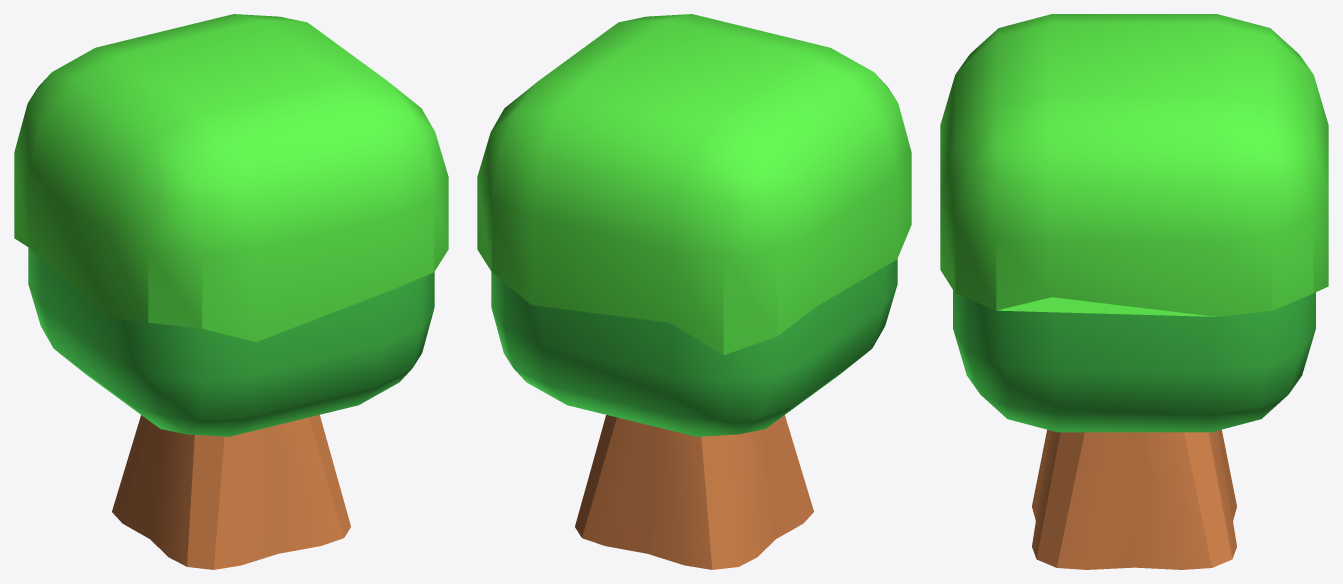
Rendered from Tree003.fbx.
3 views of the same model, side by side, from view 1: azimuth 30°, elevation 25°; view 2: azimuth 150°, elevation 25°; view 3: azimuth 270°, elevation 25° (orthographic). The views are drawn at different scales.
Parts seen in each view (by area): view 1: Tree003; view 2: Tree003; view 3: Tree003.
Boxes of the visible parts, x1,y1,x2,y2 form: Tree003: (14,14,448,569); Tree003: (477,14,911,569); Tree003: (940,14,1328,569).
Size of the model in its own units: 438 by 582 by 438.
